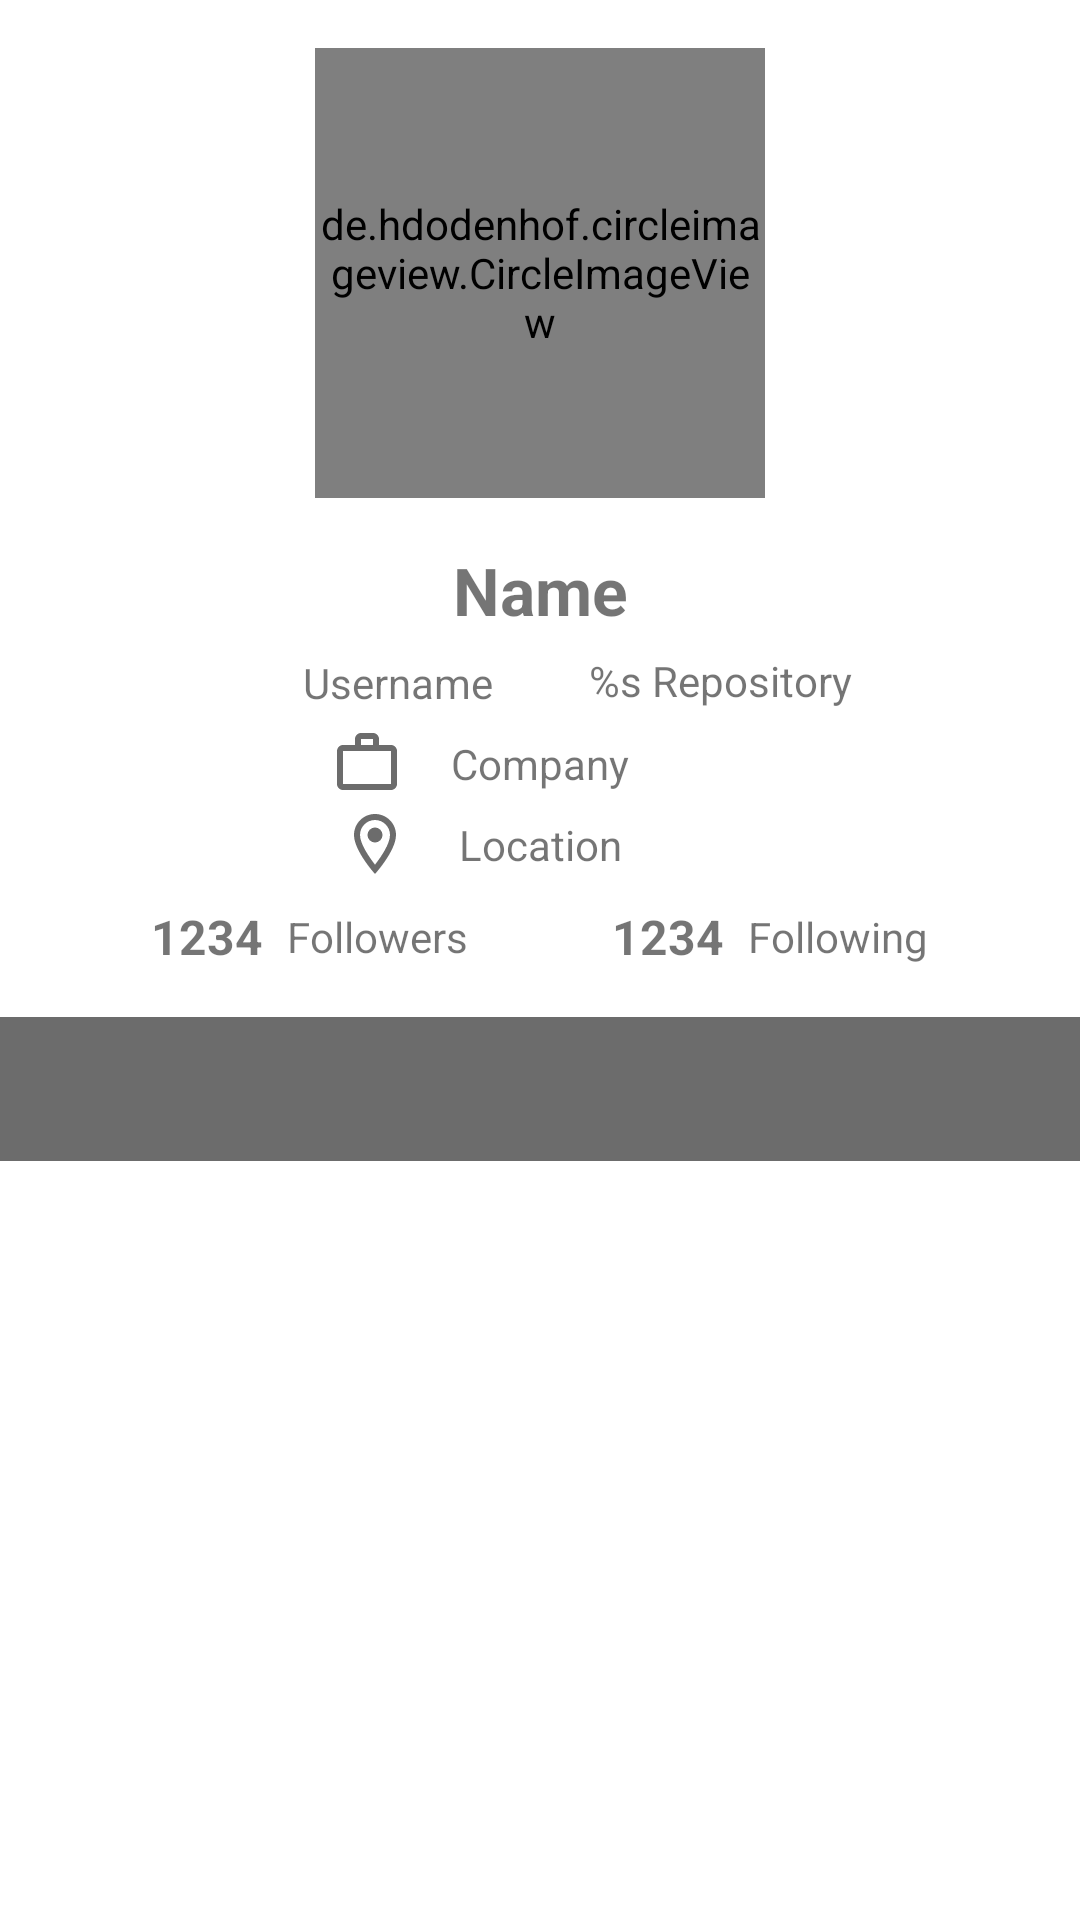

Screen size 1080*1920. Icon name, then its box in pixels as (x1,y1,x2,y2):
work: (337,733,397,790)
